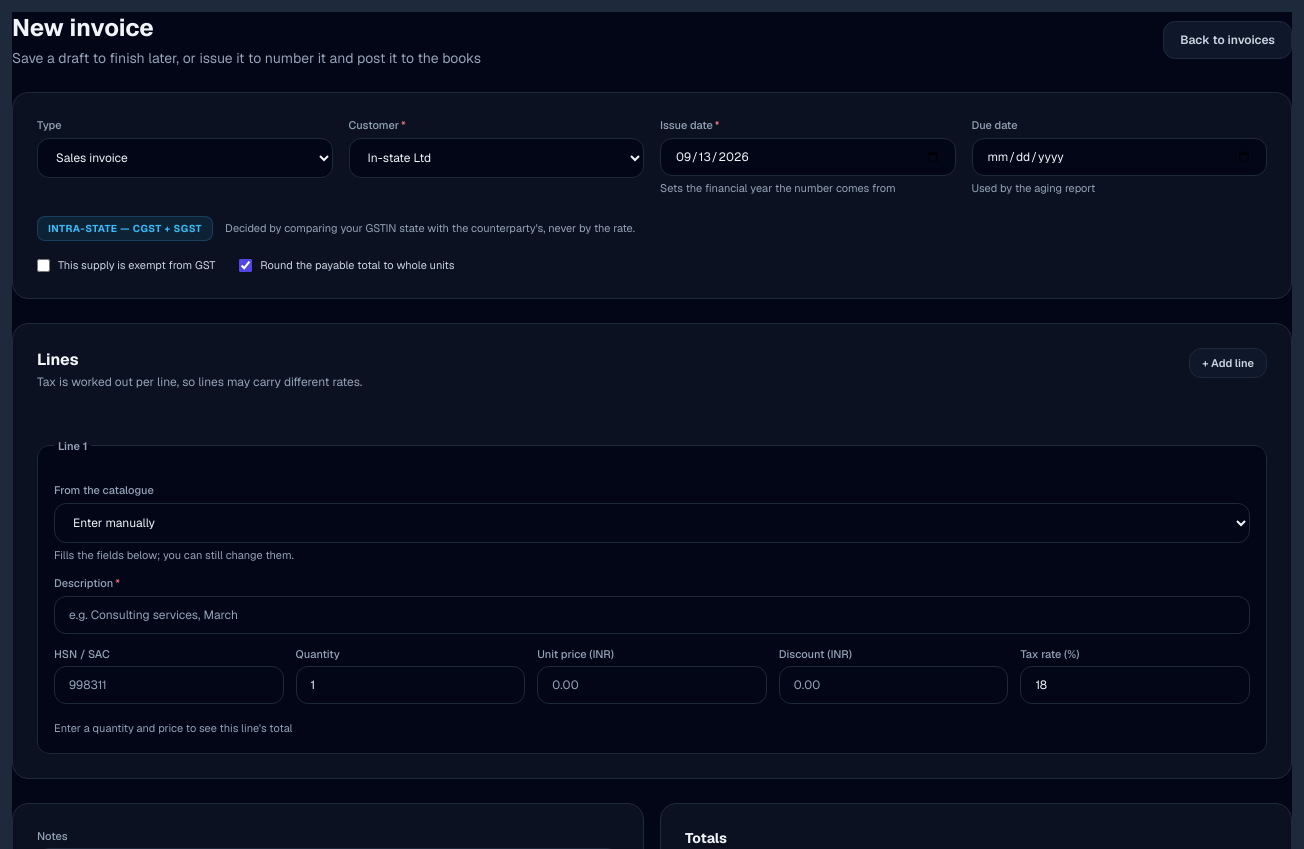
it: NewInvoiceClient › copies a catalogue item onto the line rather than referencing it
This screenshot has width=1304, height=849.
Select "Audit retainer" in the dropdown labelled "From the catalogue" at (652,522), box [54,502,1250,542]
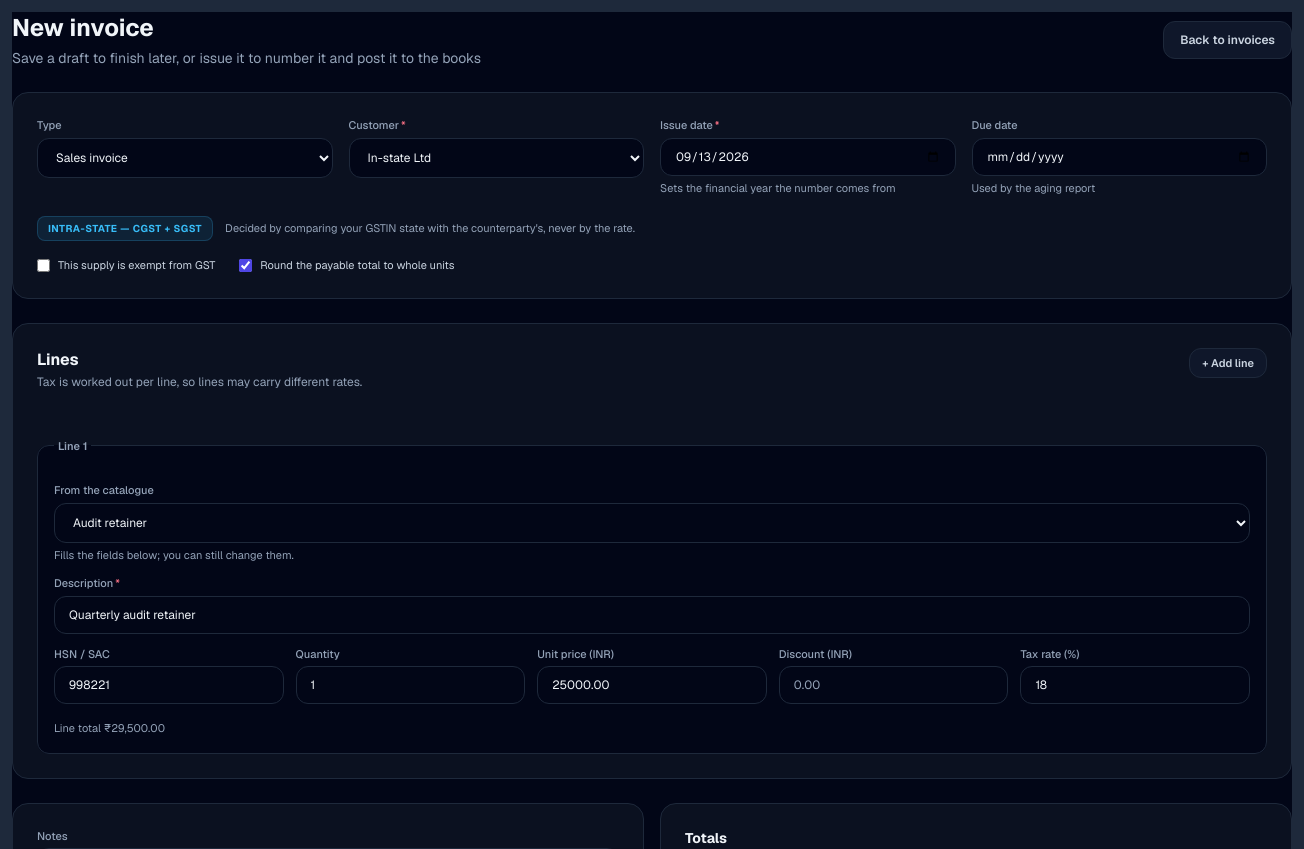
Expected: the field labelled "Description*" holds "Quarterly audit retainer", [54,596,1250,634]
Expected: the field labelled "Unit price (INR)" holds "25000.00", [537,666,767,704]
Expected: the field labelled "HSN / SAC" holds "998221", [54,666,284,704]
